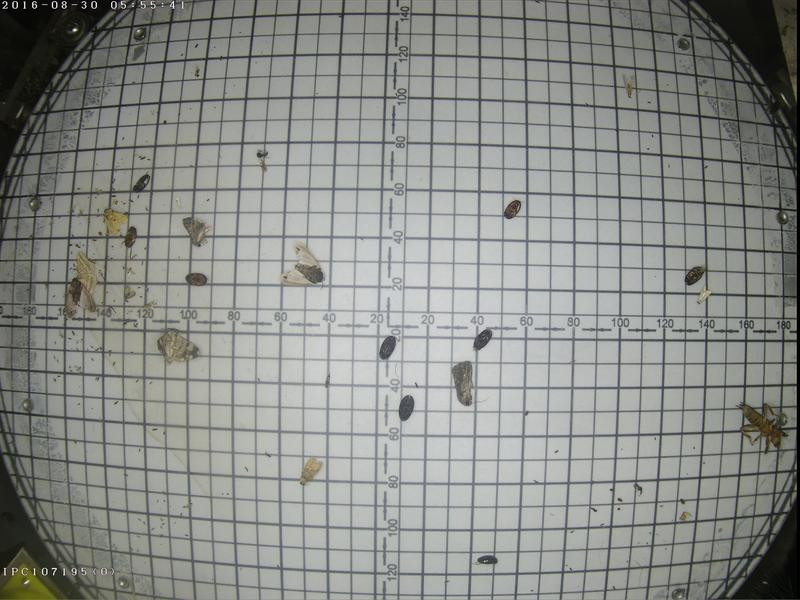Gryllotalpa orientalis: (733, 395, 788, 455)
